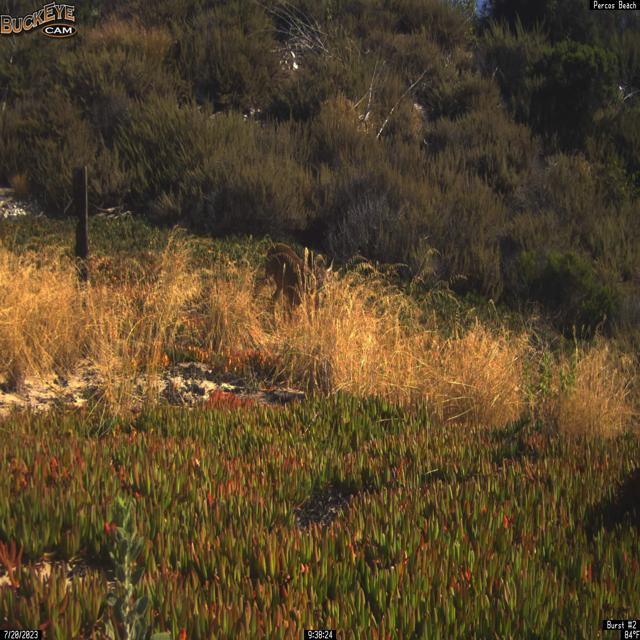deer: (253, 242, 336, 324)
